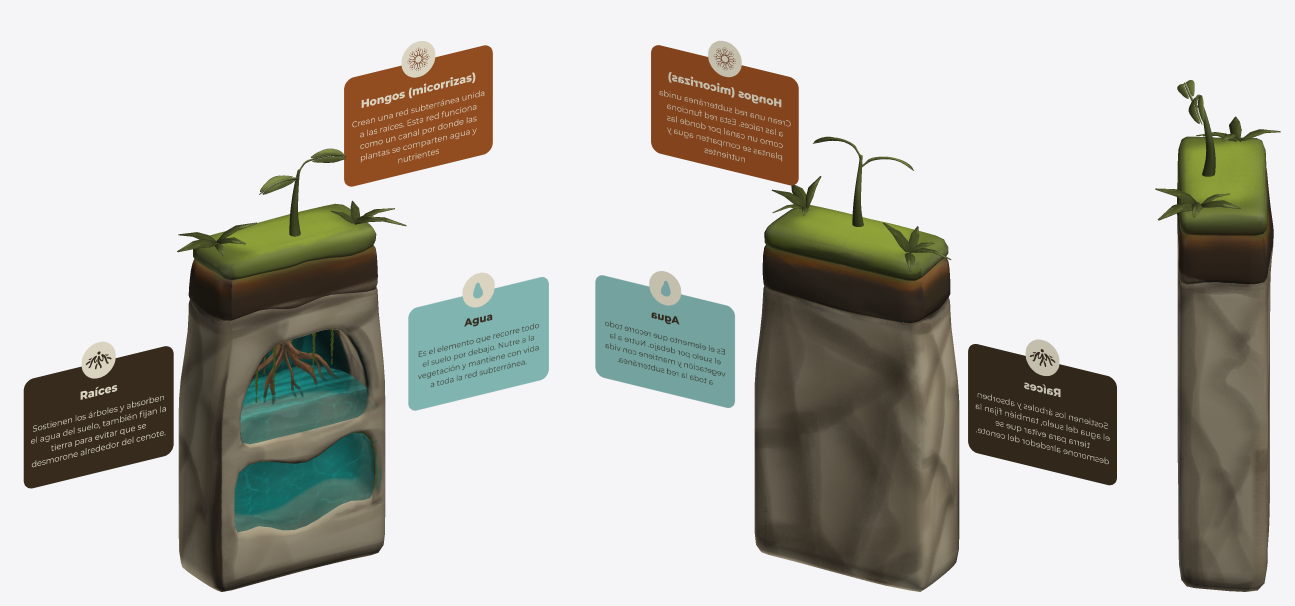
The model's file is hongos-raices-y-agua-2.glb.
3 views of the same model, side by side, from view 1: azimuth 30°, elevation 25°; view 2: azimuth 150°, elevation 25°; view 3: azimuth 270°, elevation 25° (orthographic). The views are drawn at different scales.
Parts seen in each view (by area): view 1: Cube.029, 1533.003, Empty.004; view 2: Cube.029, 1533.003; view 3: Cube.029, Plane.107, Plane.106, Plane.109, Plane.111, Plane.114.
Part boxes in pixels (left/top/right/bottom): Cube.029: left=178, top=148, right=385, bottom=591; 1533.003: left=23, top=41, right=548, bottom=488; Empty.004: left=250, top=340, right=339, bottom=404; Cube.029: left=754, top=136, right=959, bottom=591; 1533.003: left=595, top=41, right=1116, bottom=485; Cube.029: left=1177, top=80, right=1273, bottom=591; Plane.107: left=1157, top=202, right=1193, bottom=220; Plane.106: left=1155, top=188, right=1197, bottom=203; Plane.109: left=1201, top=200, right=1240, bottom=208; Plane.111: left=1229, top=116, right=1241, bottom=138; Plane.114: left=1240, top=129, right=1280, bottom=140.
Size of the model in its own units: 1.09 by 0.9583 by 0.1932.
6 materials, 6 textured.
